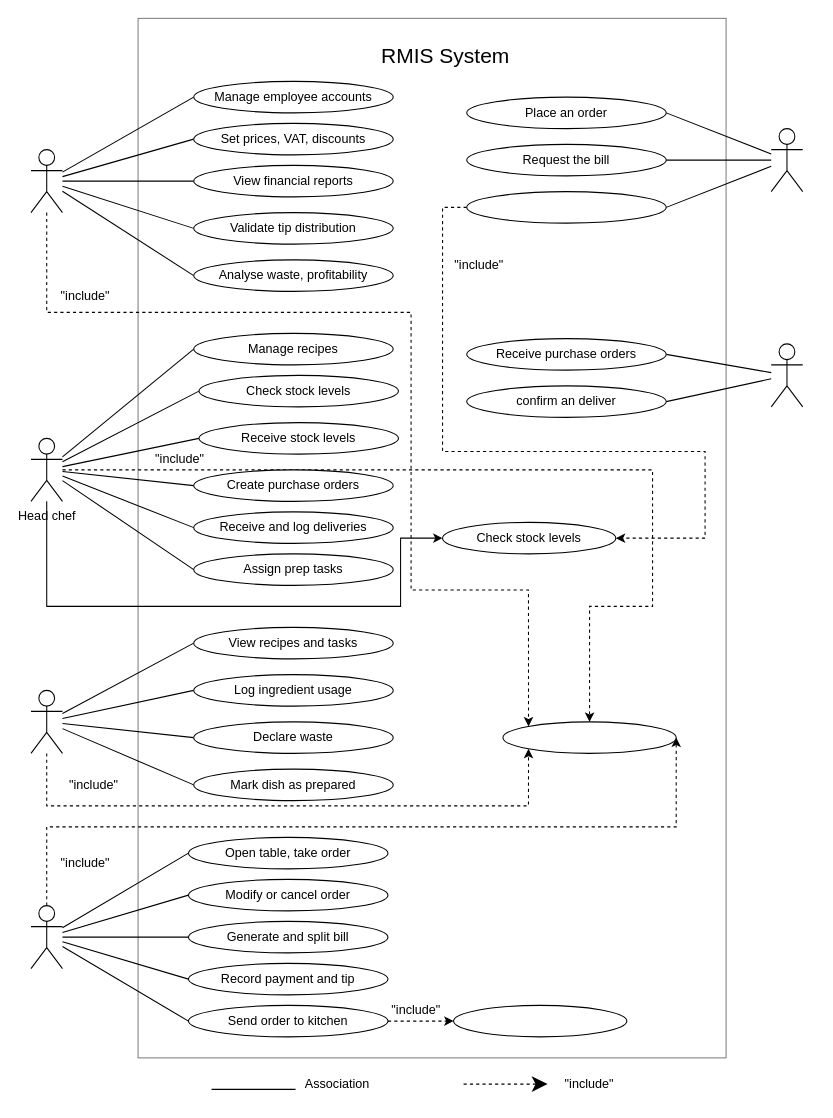
Image size: 833x1118. Some labels were removed from this diagram. The centre of each missing label's shape, as x and y in pixels:
Authenticate user: the point at 589,737
Commis: the point at 46,721
Customer: the point at 786,160
Deduct stock: the point at 540,1020
Manager: the point at 46,181
Pay and tip: the point at 566,207
Server: the point at 46,937
Supplier: the point at 786,375
